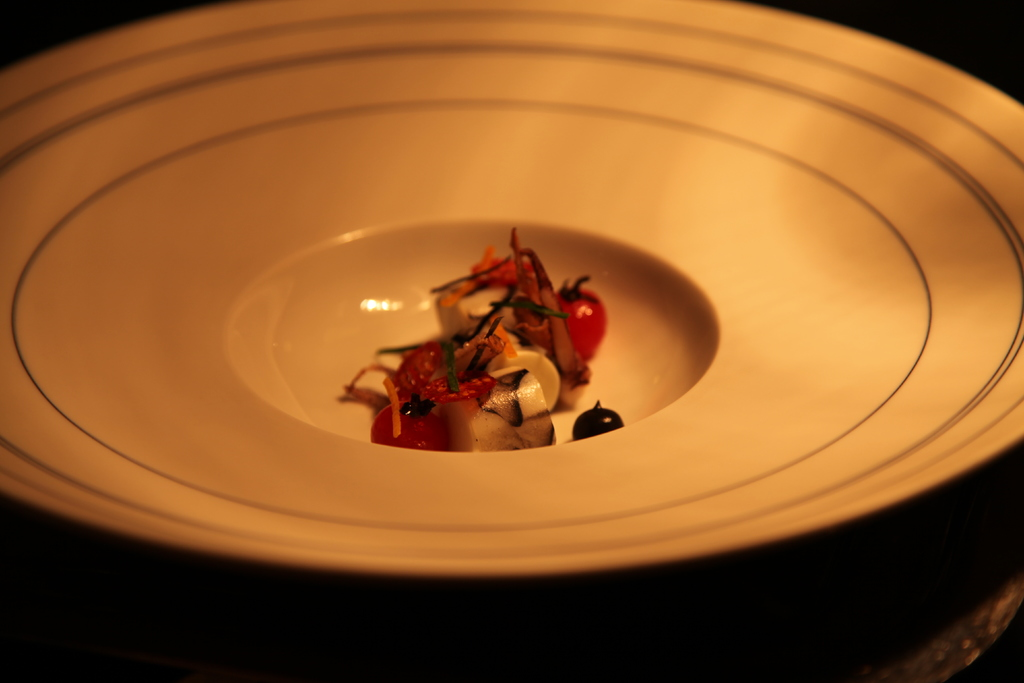plate: (44, 51, 974, 597)
